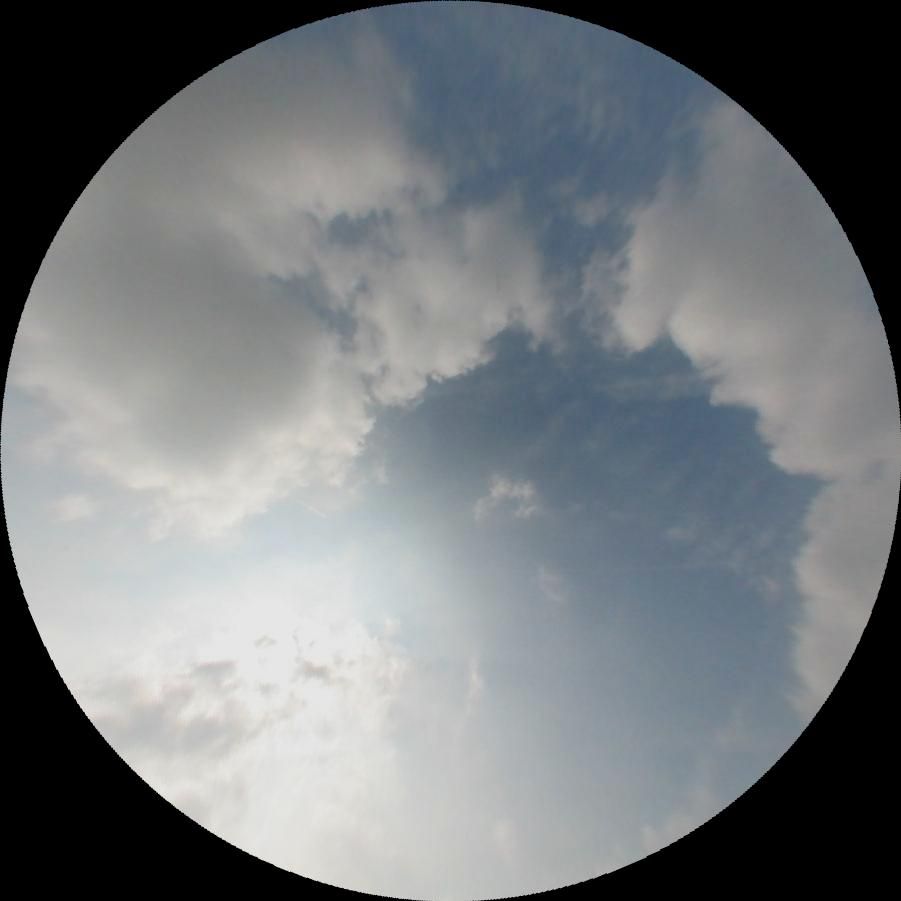contrail veryold: (604, 368, 715, 410)
contrail young: (289, 495, 326, 519)
sun: (197, 610, 386, 747)
